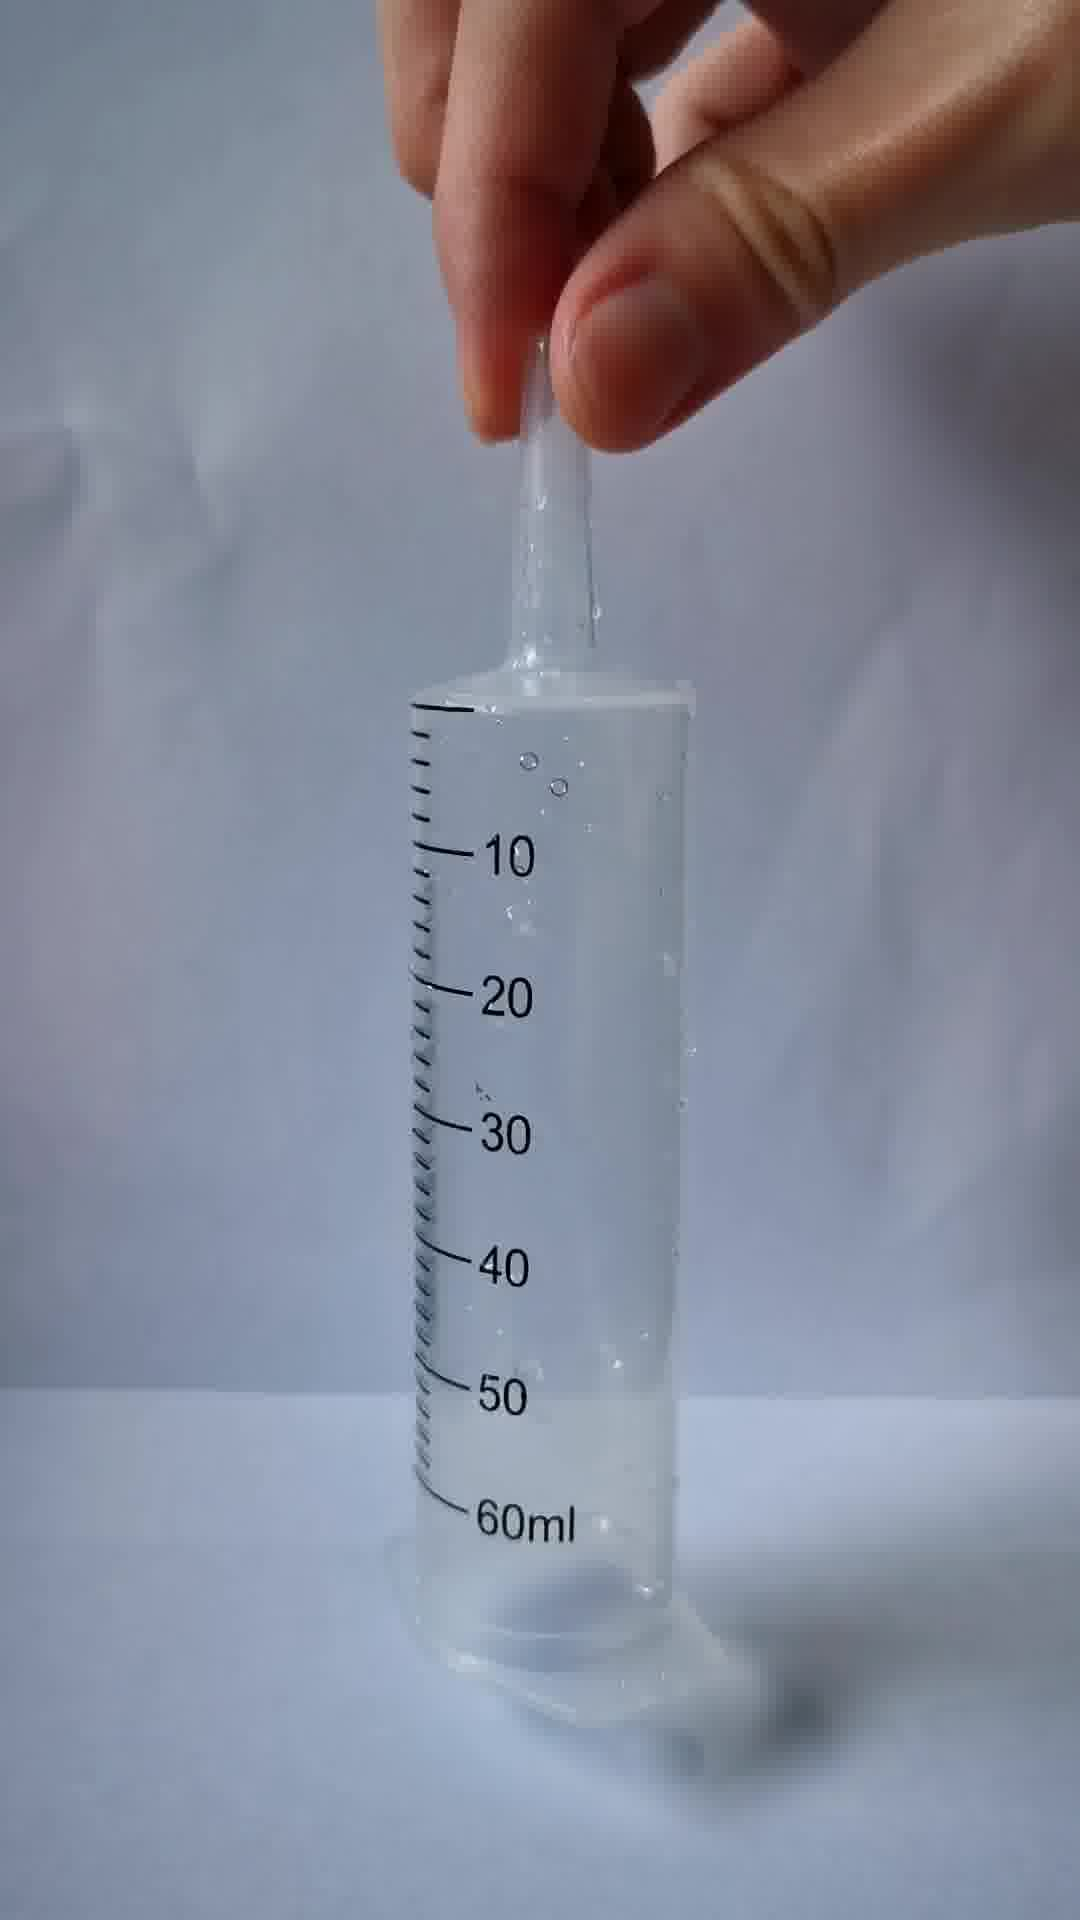syringe: (375, 336, 733, 1729)
